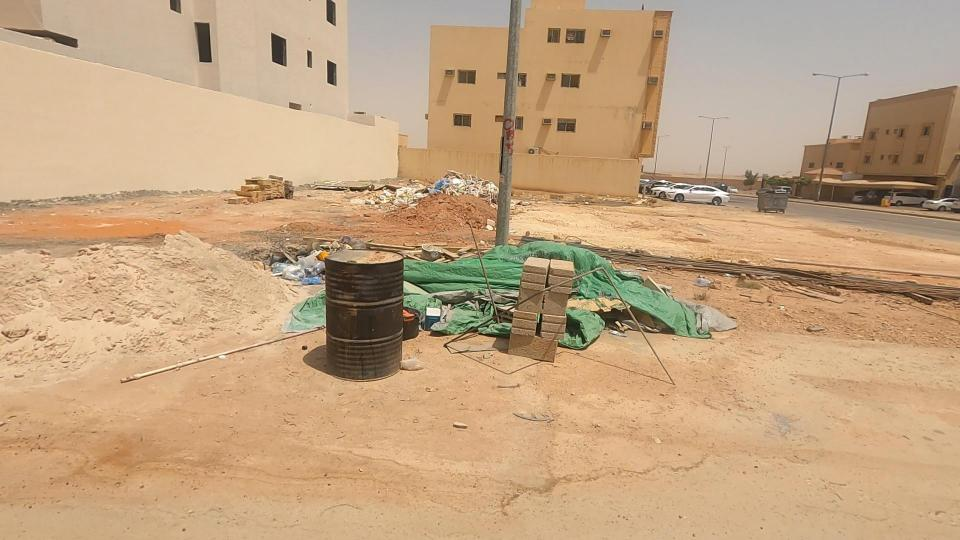GARBAGE: (328, 170, 819, 415), (196, 198, 397, 358), (349, 219, 497, 363), (390, 137, 535, 240), (330, 159, 458, 238)
